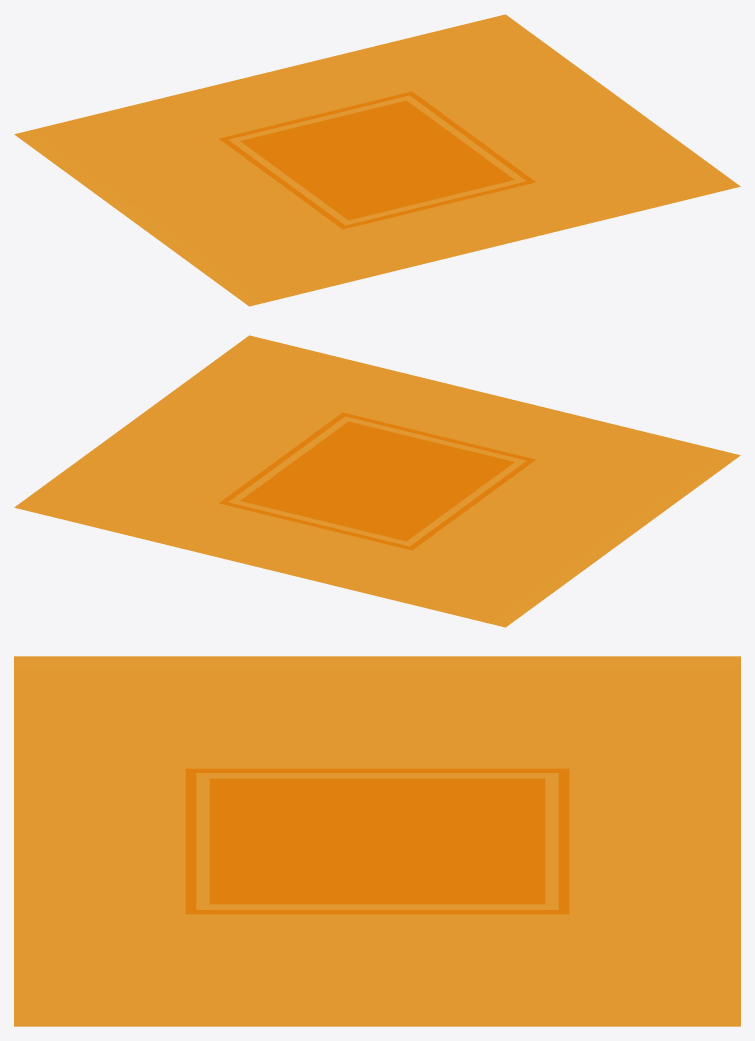
File: SANHOATIET.fbx
3 views of the same model, one above another, from view 1: azimuth 30°, elevation 25°; view 2: azimuth 150°, elevation 25°; view 3: azimuth 270°, elevation 25° (orthographic). The views are drawn at different scales.
Parts seen in each view (by area): view 1: SANHOATIET; view 2: SANHOATIET; view 3: SANHOATIET.
Part boxes in pixels (x1=…): SANHOATIET: x1=14, y1=14, x2=740, y2=306; SANHOATIET: x1=14, y1=335, x2=740, y2=627; SANHOATIET: x1=14, y1=656, x2=740, y2=1026.
Bounding box in the file's own units: 5820 × 6.42e-05 × 4826.
